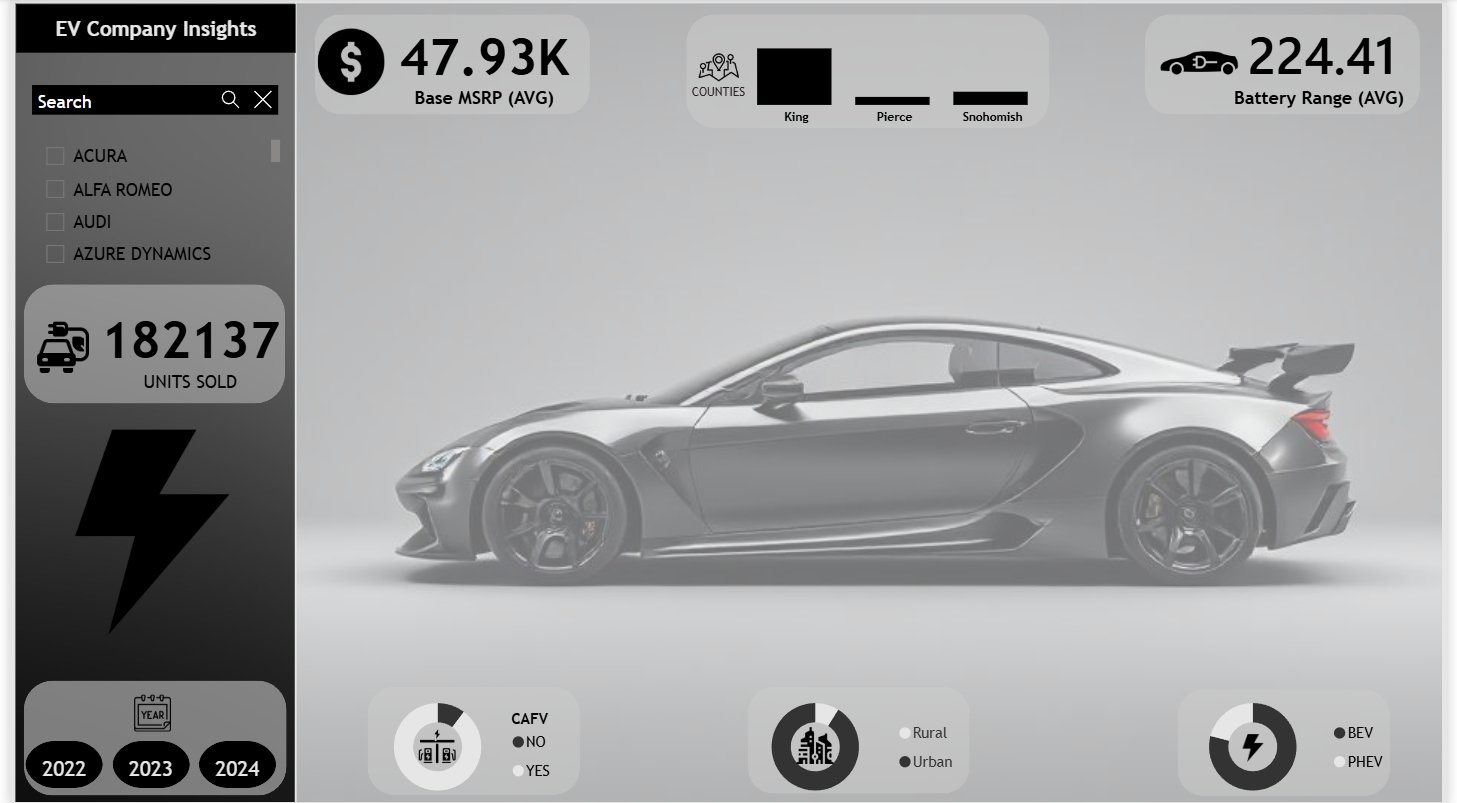

Layout of this report page (visuals, bound fields, positions):
{"tool":"powerbi","page":{"name":"Company wise","canvas":[1280,720],"ordinal":0},"visuals":[{"type":"image","title":"BG IMAGE","box":[250.4,0,1029.6,720.7],"z":0},{"type":"shape","box":[0,0,1280,720.2],"z":1000},{"type":"imageDB603108E3FF4EBFB8047F5653368E8C","fields":{"imageUrl":["cleaned_ev_data.Direct Link"]},"box":[248.5,0,1031.5,720.2],"z":2000},{"type":"shape","box":[9.7,48.7,239.3,662.3],"z":3000},{"type":"image","box":[0,0,258.8,720.7],"z":4000},{"type":"shape","box":[602,14.5,323.3,101.3],"z":5000},{"type":"columnChart","fields":{"Category":["cleaned_ev_data.County"],"Y":["CountNonNull(cleaned_ev_data.Make)"]},"box":[626.1,7.2,324.5,114.6],"z":6000},{"type":"shape","box":[12.1,254.6,232.8,106.2],"z":7000},{"type":"card","fields":{"Values":["CountNonNull(cleaned_ev_data.Make)"]},"box":[76,254.6,170.1,113.4],"z":8000},{"type":"shape","box":[12.1,608,234,102.5],"z":9000},{"type":"advancedSlicerVisual","fields":{"Values":["cleaned_ev_data.Model Year"]},"box":[9.4,656.3,234.5,52.6],"z":10000},{"type":"shape","box":[271.4,14.5,244.9,89.3],"z":11000},{"type":"card","fields":{"Values":["Avg(cleaned_ev_data.Base MSRP)"]},"box":[328.2,14.5,188.2,89.3],"z":12000},{"type":"shape","box":[1011,14.5,244.9,89.3],"z":13000},{"type":"card","fields":{"Values":["Avg(cleaned_ev_data.Electric Range (MILE))"]},"box":[1081,14.5,174.9,88.1],"z":14000},{"type":"shape","box":[318.5,612.9,189.4,96.5],"z":15000},{"type":"donutChart","fields":{"Category":["cleaned_ev_data.CAFV (YES/NO)"],"Y":["CountNonNull(cleaned_ev_data.Make)"]},"box":[310.1,612.9,197.9,107.4],"z":16000},{"type":"shape","box":[656.3,612.9,197.9,95.3],"z":17000},{"type":"donutChart","fields":{"Y":["CountNonNull(cleaned_ev_data.Urban/Rural)"],"Category":["cleaned_ev_data.Urban/Rural"]},"box":[639.4,612.9,214.7,107.4],"z":18000},{"type":"shape","box":[1040,615.3,189.4,95.3],"z":19000},{"type":"donutChart","fields":{"Category":["cleaned_ev_data.Electric Vehicle Type"],"Y":["CountNonNull(cleaned_ev_data.Electric Vehicle Type)"]},"box":[1030.3,612.9,206.3,107.4],"z":20000},{"type":"image","box":[269,20.5,68.8,73.6],"z":21000},{"type":"image","box":[1010.7,13.5,97,88.9],"z":22000},{"type":"image","box":[358.3,644.2,43.4,42.2],"z":23000},{"type":"image","box":[696.1,644.2,42.2,42.2],"z":24000},{"type":"image","box":[604.4,38.6,53.1,45.8],"z":25000},{"type":"image","box":[19.3,267.8,56.7,85.7],"z":26000},{"type":"image","box":[79.6,615.3,94.1,42.2],"z":27000},{"type":"image","box":[1089.4,646.7,35,42.2],"z":28000},{"type":"textbox","box":[602,67.6,66.4,33.8],"z":29000},{"type":"shape","box":[5.6,5.6,249,43.1],"z":30000},{"type":"slicer","fields":{"Values":["cleaned_ev_data.Make"]},"box":[19.3,121.9,226.8,125.5],"z":31000},{"type":"textSearchSlicerF85E2E78BE4A4D7D9F99ED75B5D71C85","fields":{"fields":["cleaned_ev_data.Make"]},"box":[9.7,68.2,239.3,47.3],"z":32000},{"type":"image","box":[1.2,380,250.9,191.8],"z":33000}]}

Visuals, with their boxes in screenshot pixels (x1, y1, x2, y2), scaled from the page's 1280x720 canvas onto the 1457x803 screenshot:
"BG IMAGE" image: bbox(285, 0, 1456, 802)
shape: bbox(0, 0, 1456, 802)
imageDB603108E3FF4EBFB8047F5653368E8C - cleaned_ev_data.Direct Link: bbox(283, 0, 1456, 802)
shape: bbox(11, 54, 283, 793)
image: bbox(0, 0, 295, 802)
shape: bbox(685, 16, 1053, 129)
columnChart - cleaned_ev_data.County x CountNonNull(cleaned_ev_data.Make): bbox(713, 8, 1082, 136)
shape: bbox(14, 284, 279, 402)
card - CountNonNull(cleaned_ev_data.Make): bbox(87, 284, 280, 410)
shape: bbox(14, 678, 280, 792)
advancedSlicerVisual - cleaned_ev_data.Model Year: bbox(11, 732, 278, 791)
shape: bbox(309, 16, 588, 116)
card - Avg(cleaned_ev_data.Base MSRP): bbox(374, 16, 588, 116)
shape: bbox(1151, 16, 1430, 116)
card - Avg(cleaned_ev_data.Electric Range (MILE)): bbox(1230, 16, 1430, 114)
shape: bbox(363, 684, 578, 791)
donutChart - cleaned_ev_data.CAFV (YES/NO) x CountNonNull(cleaned_ev_data.Make): bbox(353, 684, 578, 802)
shape: bbox(747, 684, 972, 790)
donutChart - CountNonNull(cleaned_ev_data.Urban/Rural) x cleaned_ev_data.Urban/Rural: bbox(728, 684, 972, 802)
shape: bbox(1184, 686, 1399, 793)
donutChart - cleaned_ev_data.Electric Vehicle Type x CountNonNull(cleaned_ev_data.Electric Vehicle Type): bbox(1173, 684, 1408, 802)
image: bbox(306, 23, 385, 105)
image: bbox(1150, 15, 1261, 114)
image: bbox(408, 718, 457, 766)
image: bbox(792, 718, 840, 766)
image: bbox(688, 43, 748, 94)
image: bbox(22, 299, 87, 394)
image: bbox(91, 686, 198, 733)
image: bbox(1240, 721, 1280, 768)
textbox: bbox(685, 75, 761, 113)
shape: bbox(6, 6, 290, 54)
slicer - cleaned_ev_data.Make: bbox(22, 136, 280, 276)
textSearchSlicerF85E2E78BE4A4D7D9F99ED75B5D71C85 - cleaned_ev_data.Make: bbox(11, 76, 283, 129)
image: bbox(1, 424, 287, 638)
